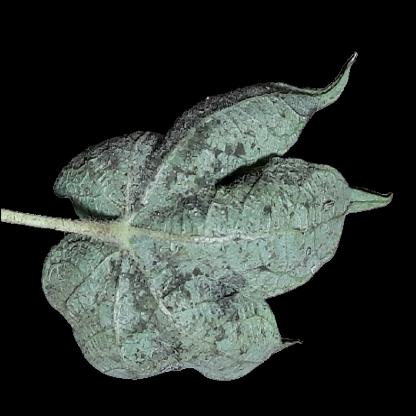curl_stage2: (275, 225, 332, 259)
sooty: (85, 129, 241, 347), (256, 176, 320, 222)
